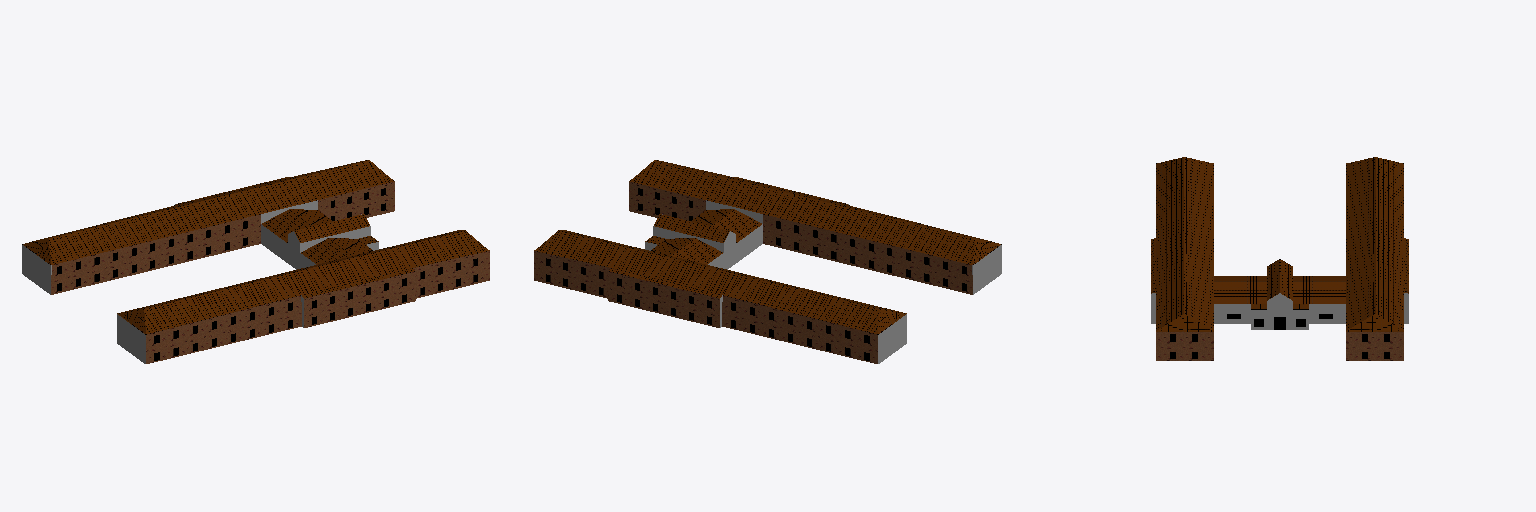
3 views of the same model, side by side, from view 1: azimuth 30°, elevation 25°; view 2: azimuth 150°, elevation 25°; view 3: azimuth 270°, elevation 25° (orthographic).
Parts seen in each view (by area): view 1: Cube, Cube.001; view 2: Cube.001, Cube; view 3: Cube.001, Cube.
Part boxes in pixels (bbox=[...]): Cube: bbox=[117, 214, 489, 363]; Cube.001: bbox=[22, 160, 394, 294]; Cube.001: bbox=[534, 214, 906, 363]; Cube: bbox=[629, 160, 1001, 294]; Cube.001: bbox=[1280, 157, 1408, 360]; Cube: bbox=[1151, 157, 1279, 360].
Bounding box in the file's own units: 7.38 × 0.8695 × 4.78.
4 materials, 3 textured.